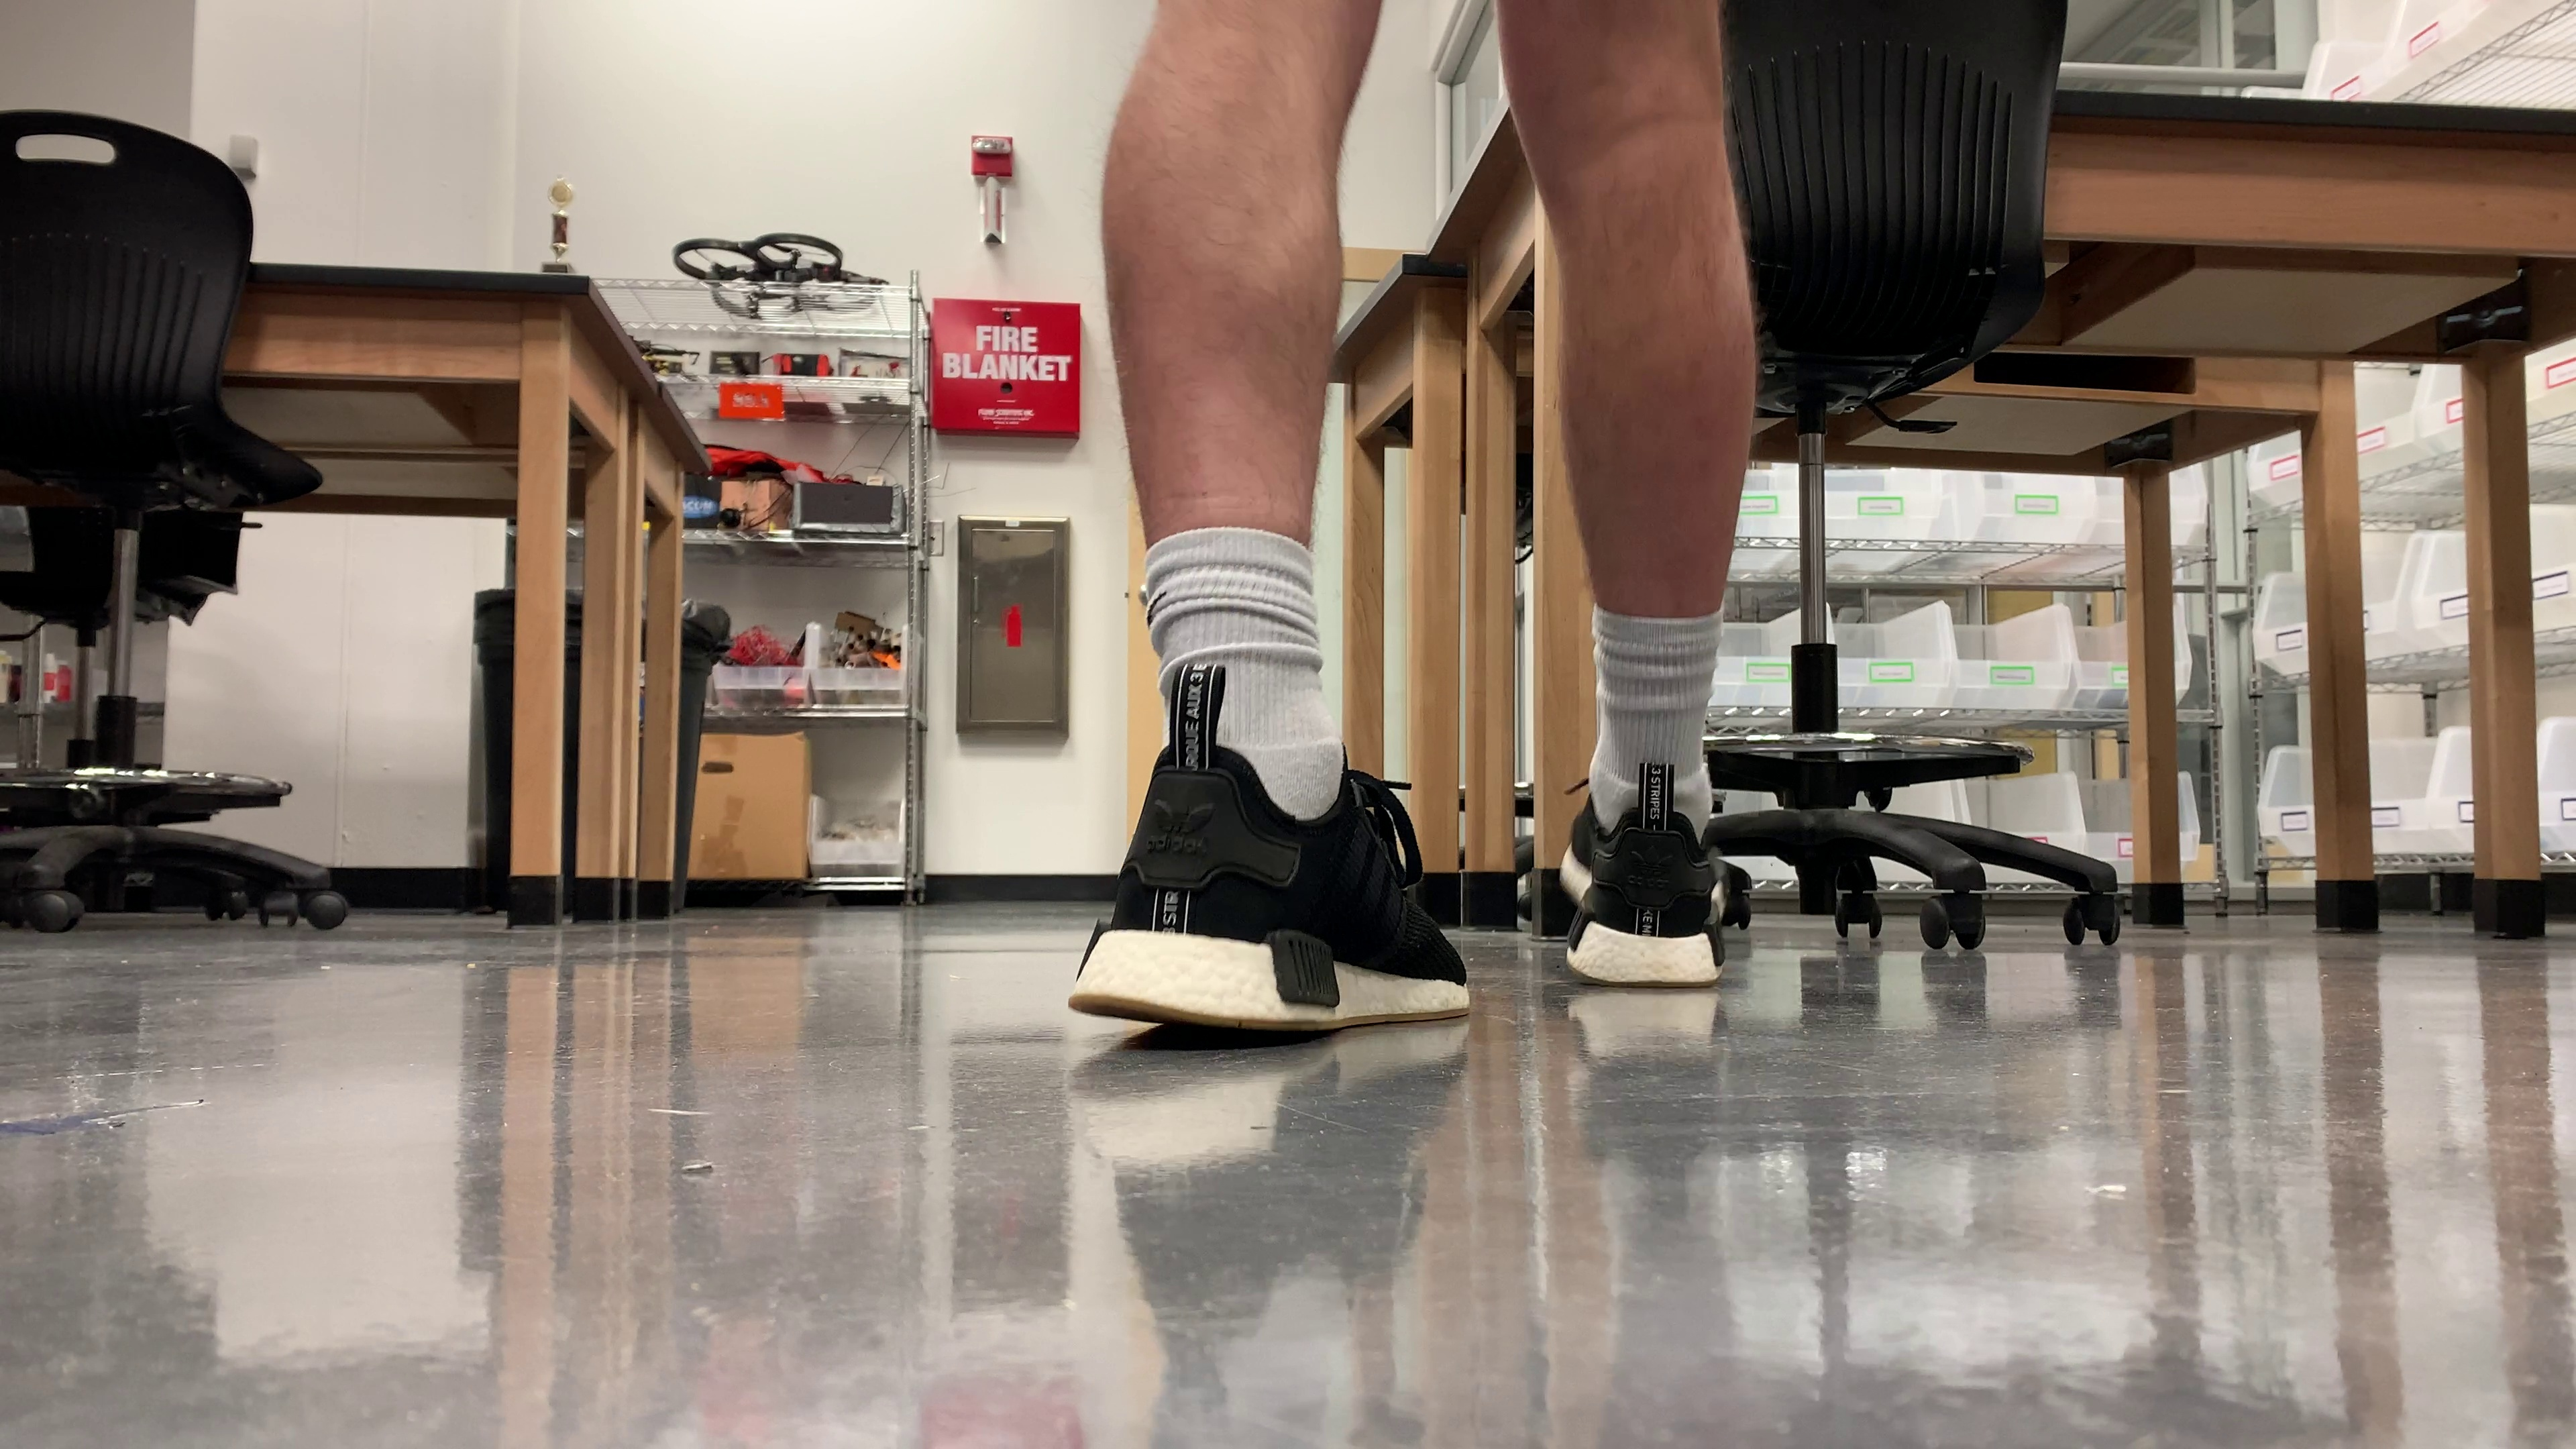shoe: (1072, 747, 1468, 1033), (1560, 794, 1725, 991)
